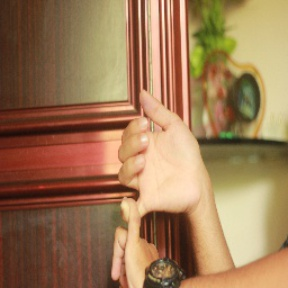S: (103, 88, 202, 283)
